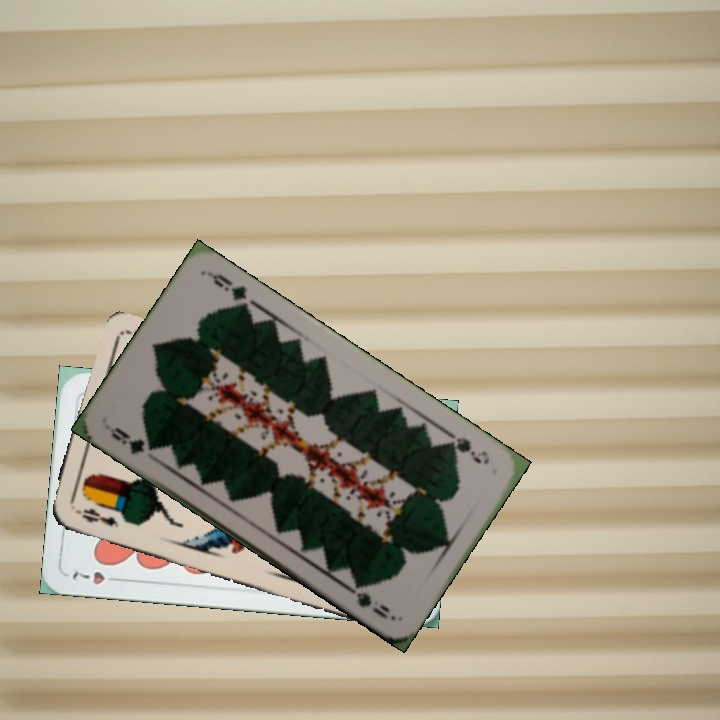EO: (70, 504, 121, 531)
G9: (441, 429, 493, 467), (106, 423, 159, 457)
H7: (69, 567, 125, 588)
